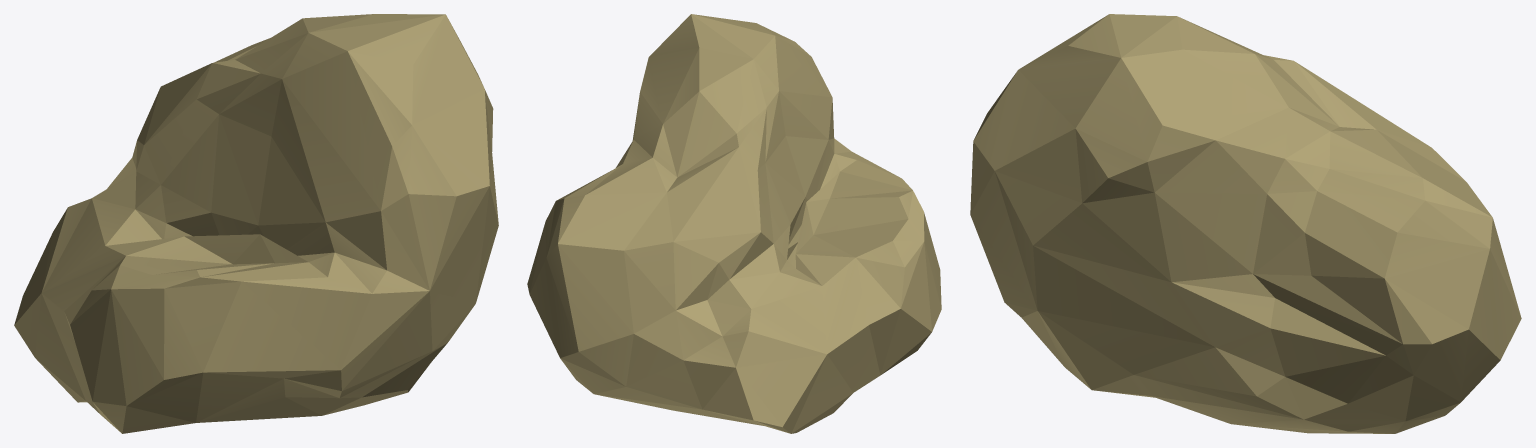
Rendered from SM_rock_34.fbx.
The picture shows the model from 3 angles, left to right: view 1: azimuth 30°, elevation 25°; view 2: azimuth 150°, elevation 25°; view 3: azimuth 270°, elevation 25°; orthographic projection. The views are drawn at different scales.
Parts seen in each view (by area): view 1: rock_34; view 2: rock_34; view 3: rock_34.
Boxes of the visible parts, bbox=[...] form: rock_34: bbox=[14, 14, 498, 433]; rock_34: bbox=[527, 14, 941, 433]; rock_34: bbox=[970, 14, 1521, 433].
Size of the model in its own units: 142 by 139 by 169.
